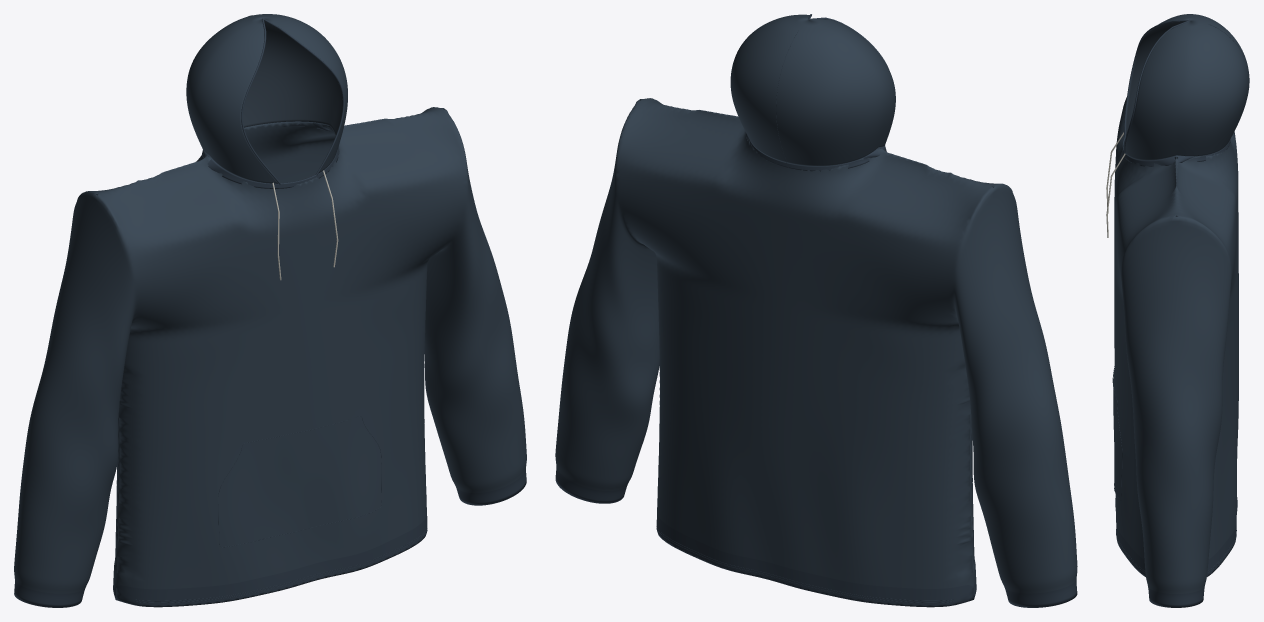
The model's file is hoodie-boxy.glb.
3 renders of one model, left to right at view 1: azimuth 30°, elevation 25°; view 2: azimuth 150°, elevation 25°; view 3: azimuth 270°, elevation 25°, orthographic. The views are drawn at different scales.
Visible parts, largest first — view 1: hoodie-boxy, Hood, Pocket, Collar; view 2: hoodie-boxy, Hood, Collar; view 3: hoodie-boxy, Hood, Pocket, Collar, Hood binding, Hood binding.001.
Part boxes in pixels (x1,y1,x2,y2): hoodie-boxy: (14,107,526,607); Hood: (186,14,347,183); Pocket: (218,416,381,546); Collar: (202,121,339,188); hoodie-boxy: (555,98,1077,607); Hood: (730,14,895,166); Collar: (746,135,886,171); hoodie-boxy: (1114,97,1238,607); Hood: (1125,14,1249,160); Pocket: (1113,368,1122,500); Collar: (1122,137,1230,166); Hood binding: (1124,19,1189,136); Hood binding.001: (1124,20,1190,153).
Size of the model in its own units: 1.71 by 1.74 by 0.4526.
